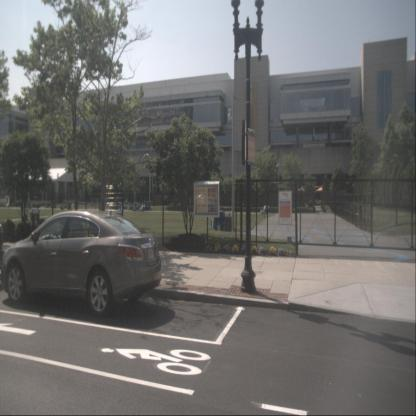vehicle-car: (1, 210, 162, 318)
